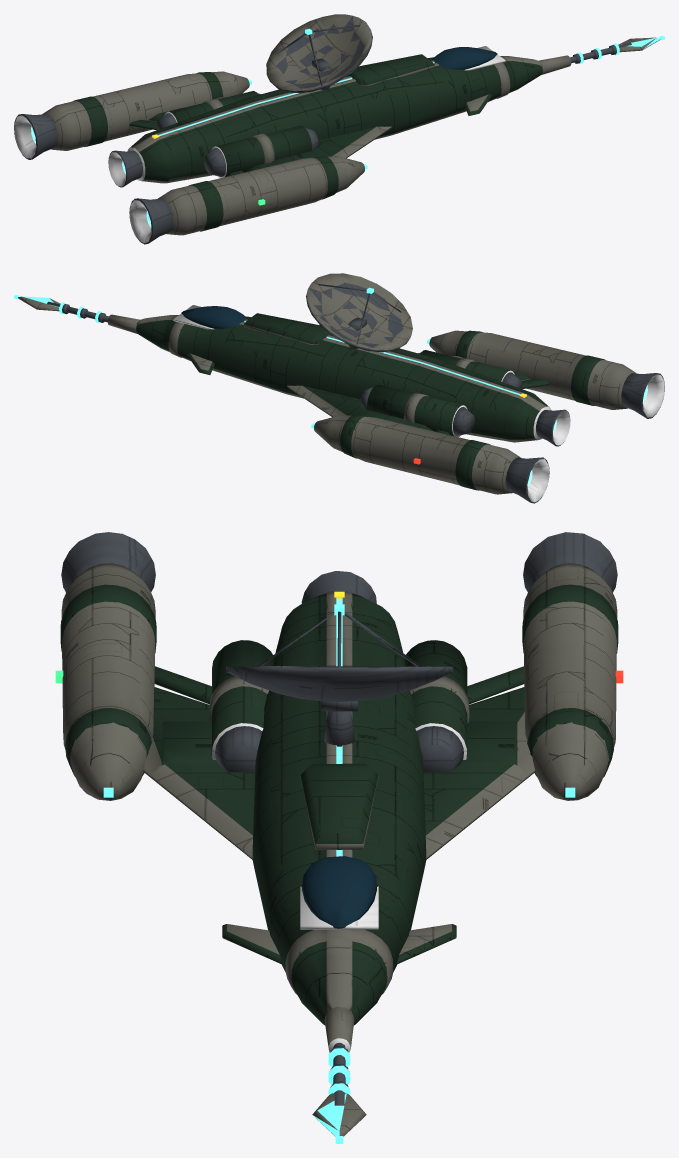
The model's file is ranger_production_v1_lod2.glb.
The picture shows the model from 3 angles, top to bottom: view 1: azimuth 30°, elevation 25°; view 2: azimuth 150°, elevation 25°; view 3: azimuth 270°, elevation 25°; orthographic projection. The views are drawn at different scales.
Parts seen in each view (by area): view 1: LOD0_MOTION_HULL_CORE_Hull, LOD0_MOTION_HULL_CORE_Armor, LOD0_MOTION_HULL_CORE_HOOK_SENSOR_DISH_Armor, LOD0_MOTION_HULL_CORE_Mechanical, LOD0_MOTION_HULL_CORE_HOOK_SENSOR_DISH_Mechanical, LOD0_MOTION_HULL_CORE_MechanicalDark, LOD0_MOTION_HULL_CORE_CANOPY, LOD0_MOTION_HULL_CORE_HOOK_SECONDARY_TANK_Hull, LOD0_MOTION_HULL_CORE_Lights_Cyan; view 2: LOD0_MOTION_HULL_CORE_Hull, LOD0_MOTION_HULL_CORE_Armor, LOD0_MOTION_HULL_CORE_HOOK_SENSOR_DISH_Armor, LOD0_MOTION_HULL_CORE_Mechanical, LOD0_MOTION_HULL_CORE_HOOK_SENSOR_DISH_Mechanical, LOD0_MOTION_HULL_CORE_HOOK_SECONDARY_TANK_Hull, LOD0_MOTION_HULL_CORE_MechanicalDark, LOD0_MOTION_HULL_CORE_CANOPY, LOD0_MOTION_HULL_CORE_Lights_Cyan, LOD0_MOTION_HULL_CORE_HOOK_SECONDARY_TANK_Mechanical; view 3: LOD0_MOTION_HULL_CORE_Hull, LOD0_MOTION_HULL_CORE_Armor, LOD0_MOTION_HULL_CORE_Mechanical, LOD0_MOTION_HULL_CORE_HOOK_SENSOR_DISH_Mechanical, LOD0_MOTION_HULL_CORE_CANOPY, LOD0_MOTION_HULL_CORE_HOOK_SECONDARY_TANK_Hull, LOD0_MOTION_HULL_CORE_Lights_Cyan, LOD0_MOTION_HULL_CORE_HOOK_SECONDARY_TANK_Mechanical, LOD0_MOTION_HULL_CORE_MechanicalDark.
Boxes of the visible parts, x1=… form: LOD0_MOTION_HULL_CORE_Hull: x1=73, y1=54, x2=542, y2=231; LOD0_MOTION_HULL_CORE_Armor: x1=42, y1=37, x2=660, y2=235; LOD0_MOTION_HULL_CORE_HOOK_SENSOR_DISH_Armor: x1=266, y1=14, x2=371, y2=91; LOD0_MOTION_HULL_CORE_Mechanical: x1=14, y1=42, x2=631, y2=244; LOD0_MOTION_HULL_CORE_HOOK_SENSOR_DISH_Mechanical: x1=267, y1=16, x2=372, y2=93; LOD0_MOTION_HULL_CORE_MechanicalDark: x1=14, y1=46, x2=505, y2=243; LOD0_MOTION_HULL_CORE_CANOPY: x1=432, y1=47, x2=497, y2=69; LOD0_MOTION_HULL_CORE_HOOK_SECONDARY_TANK_Hull: x1=169, y1=91, x2=258, y2=122; LOD0_MOTION_HULL_CORE_Lights_Cyan: x1=158, y1=36, x2=664, y2=169; LOD0_MOTION_HULL_CORE_Hull: x1=136, y1=313, x2=605, y2=490; LOD0_MOTION_HULL_CORE_Armor: x1=18, y1=296, x2=636, y2=494; LOD0_MOTION_HULL_CORE_HOOK_SENSOR_DISH_Armor: x1=307, y1=273, x2=412, y2=349; LOD0_MOTION_HULL_CORE_Mechanical: x1=47, y1=301, x2=664, y2=503; LOD0_MOTION_HULL_CORE_HOOK_SENSOR_DISH_Mechanical: x1=306, y1=282, x2=411, y2=352; LOD0_MOTION_HULL_CORE_HOOK_SECONDARY_TANK_Hull: x1=367, y1=384, x2=463, y2=435; LOD0_MOTION_HULL_CORE_MechanicalDark: x1=173, y1=305, x2=664, y2=502; LOD0_MOTION_HULL_CORE_CANOPY: x1=181, y1=306, x2=246, y2=328; LOD0_MOTION_HULL_CORE_Lights_Cyan: x1=14, y1=295, x2=520, y2=428; LOD0_MOTION_HULL_CORE_HOOK_SECONDARY_TANK_Mechanical: x1=360, y1=387, x2=474, y2=435; LOD0_MOTION_HULL_CORE_Hull: x1=60, y1=584, x2=618, y2=1024; LOD0_MOTION_HULL_CORE_Armor: x1=61, y1=563, x2=617, y2=1136; LOD0_MOTION_HULL_CORE_Mechanical: x1=61, y1=532, x2=617, y2=1105; LOD0_MOTION_HULL_CORE_HOOK_SENSOR_DISH_Mechanical: x1=226, y1=611, x2=452, y2=746; LOD0_MOTION_HULL_CORE_CANOPY: x1=302, y1=856, x2=376, y2=928; LOD0_MOTION_HULL_CORE_HOOK_SECONDARY_TANK_Hull: x1=404, y1=640, x2=467, y2=749; LOD0_MOTION_HULL_CORE_Lights_Cyan: x1=103, y1=598, x2=575, y2=1143; LOD0_MOTION_HULL_CORE_HOOK_SECONDARY_TANK_Mechanical: x1=416, y1=726, x2=463, y2=772; LOD0_MOTION_HULL_CORE_MechanicalDark: x1=212, y1=723, x2=378, y2=1052.
Size of what is drawn, in the model's own units: 17.73 by 3.39 by 7.5.
10 materials, 4 textured.
